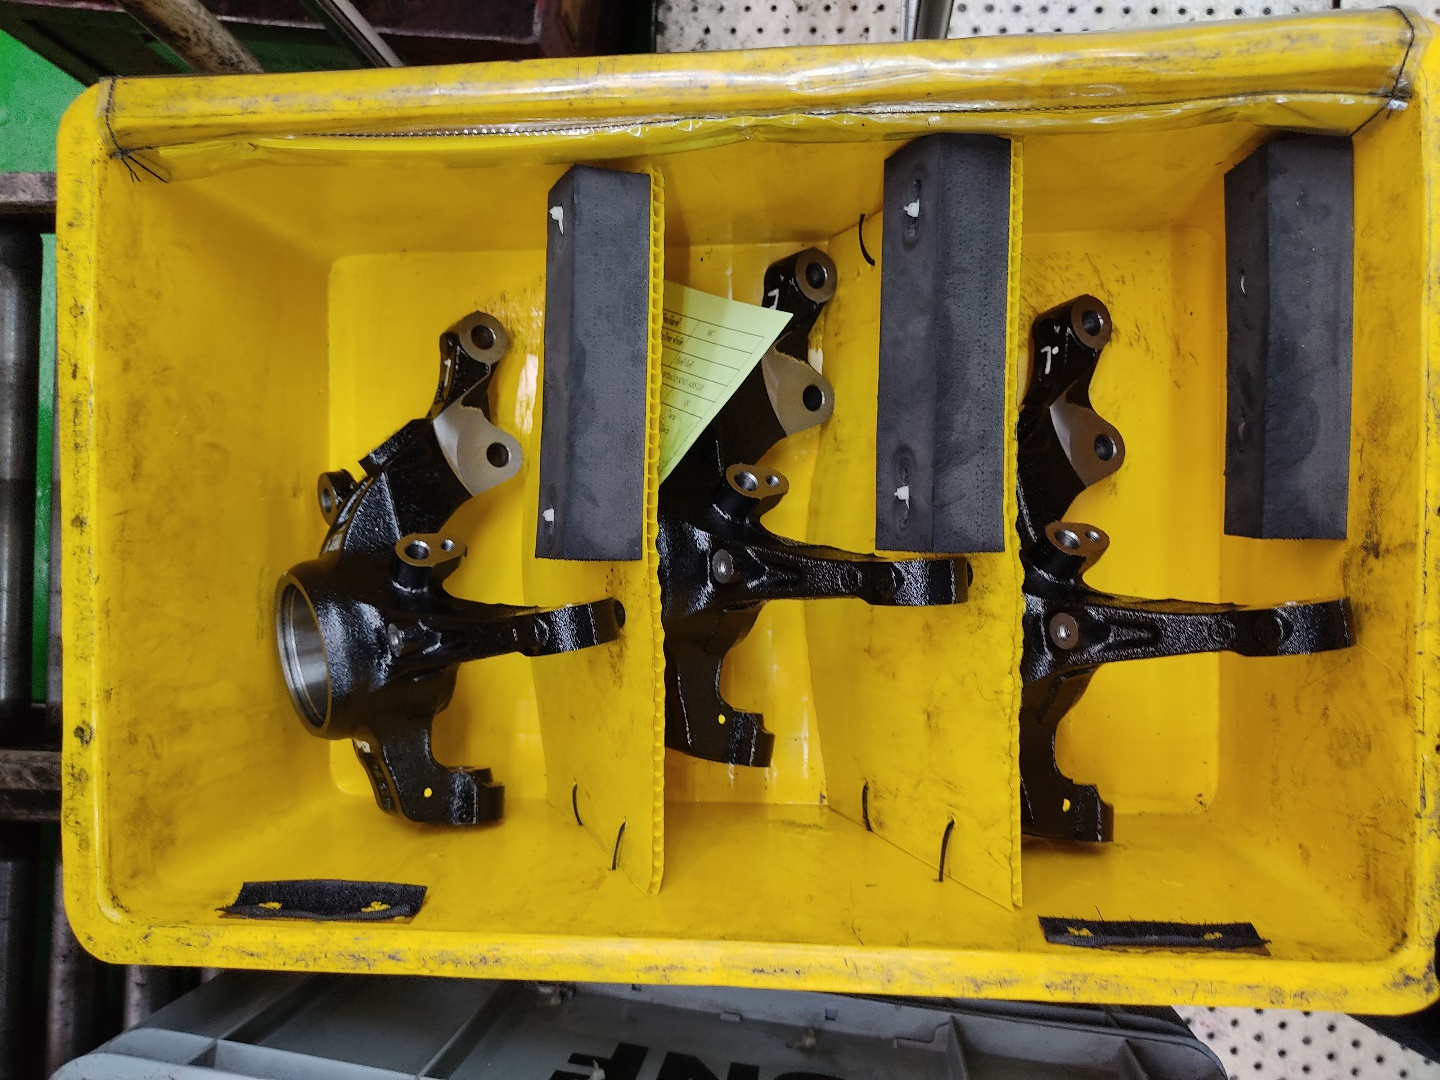abs-lh: (994, 277, 1372, 857), (260, 299, 635, 841), (651, 239, 979, 788)
